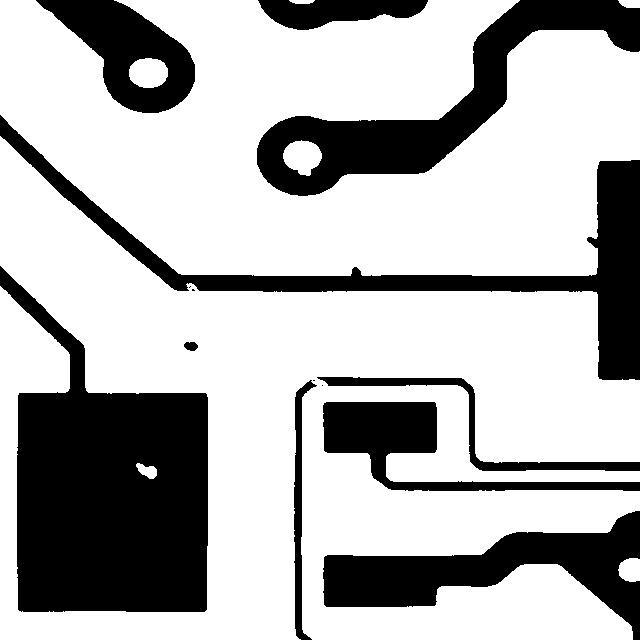copper: (174, 332, 207, 360)
mousebite: (176, 273, 208, 302), (288, 159, 320, 185)
open: (298, 361, 338, 399)
pin-hole: (126, 453, 166, 488)
spur: (341, 257, 376, 295), (577, 227, 609, 257)
